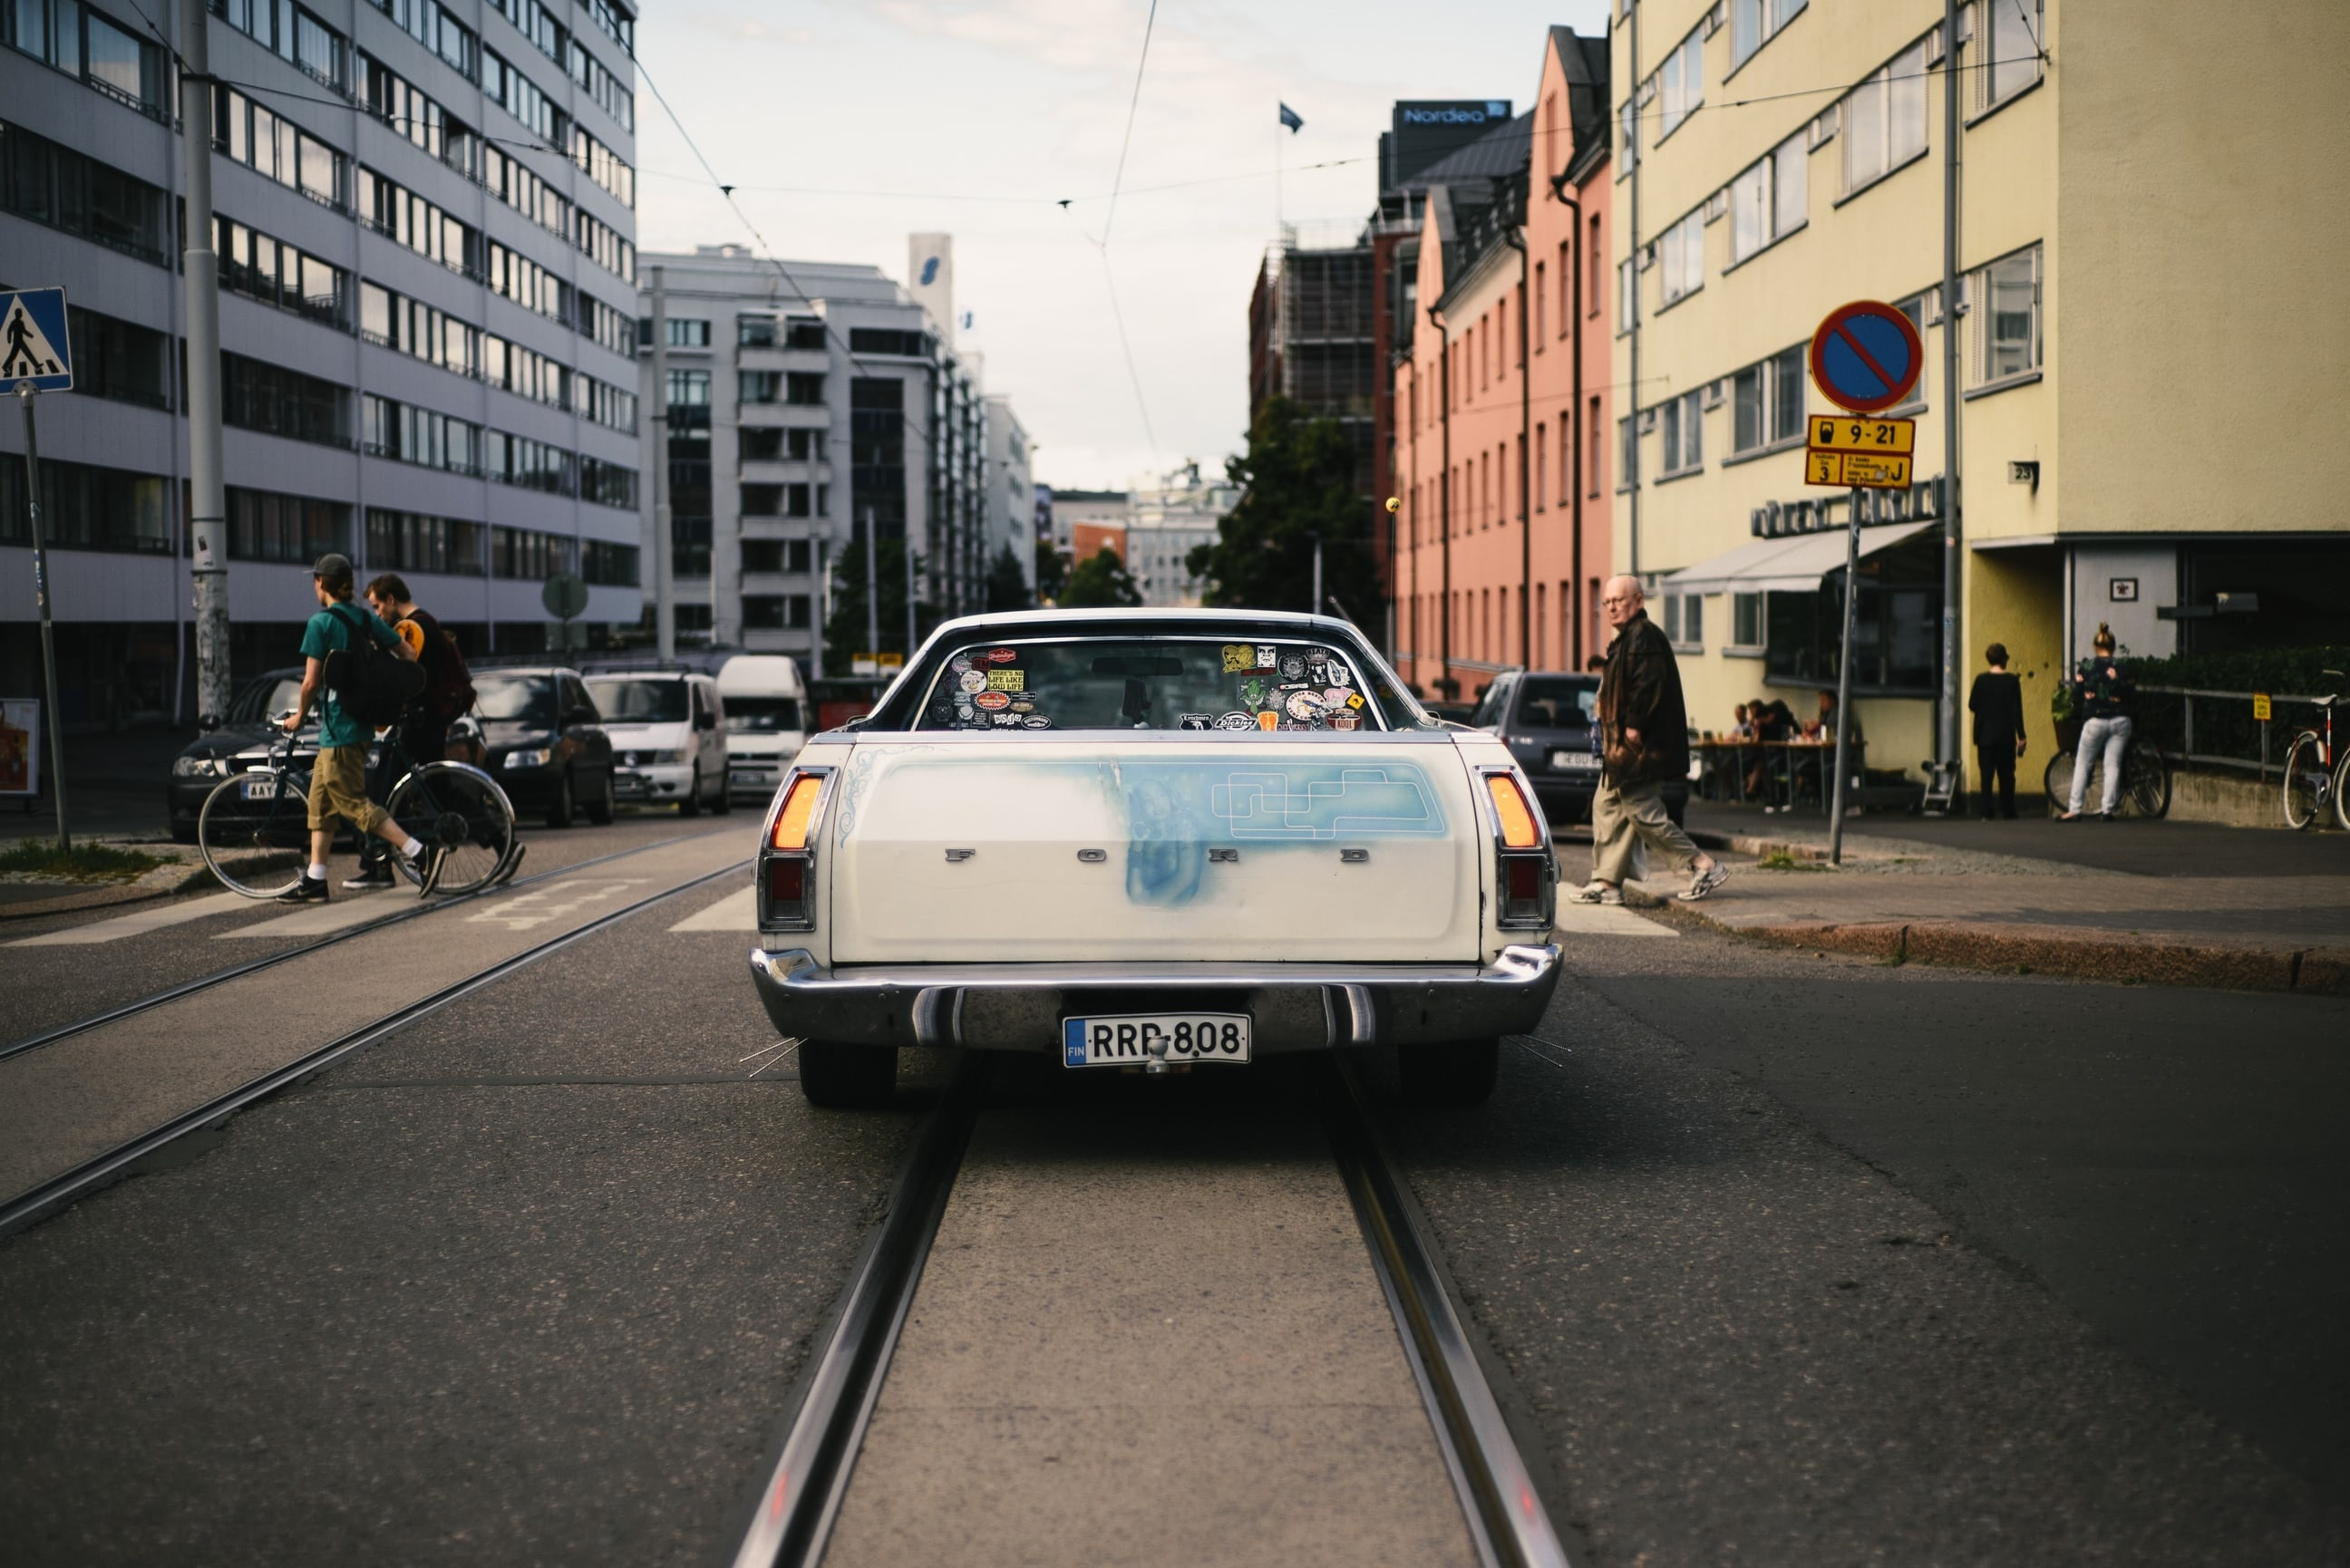plaka: (1061, 1012, 1253, 1070)
